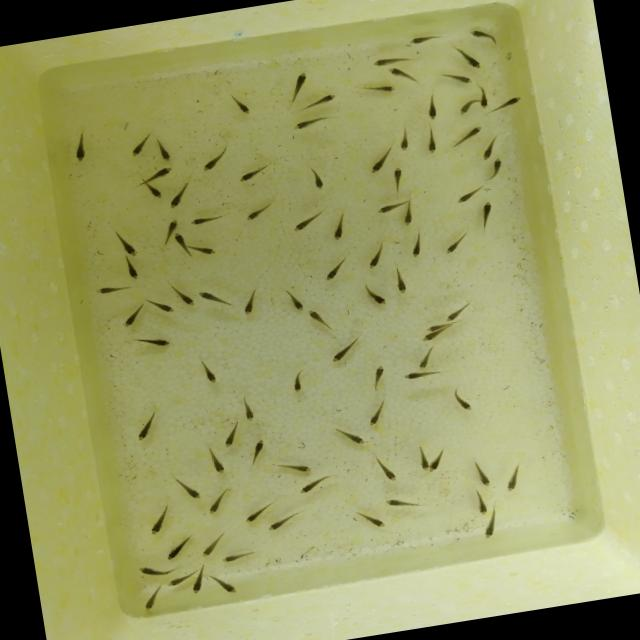fingerling: (449, 124, 491, 150), (132, 560, 174, 584), (288, 210, 326, 236), (326, 338, 360, 366), (166, 182, 197, 212), (320, 256, 352, 285), (364, 147, 396, 175), (176, 472, 204, 503), (198, 491, 230, 518), (203, 145, 236, 171), (195, 284, 228, 310), (298, 91, 338, 112), (166, 534, 198, 560), (114, 230, 140, 262), (336, 426, 369, 451), (200, 530, 232, 555), (372, 50, 416, 68), (134, 414, 160, 444), (286, 70, 312, 100), (365, 400, 391, 430), (146, 296, 178, 320), (172, 281, 198, 310), (219, 422, 244, 452), (385, 62, 416, 86), (502, 464, 525, 496), (363, 282, 389, 310), (138, 331, 174, 351), (373, 198, 413, 216), (480, 510, 502, 542), (118, 304, 146, 329), (464, 26, 498, 46), (238, 164, 272, 184), (441, 235, 470, 258), (361, 82, 398, 100), (291, 114, 328, 132), (378, 458, 400, 488), (461, 49, 486, 75), (146, 511, 170, 538), (363, 244, 387, 271), (142, 164, 178, 182), (157, 213, 185, 236), (248, 436, 271, 464), (192, 242, 224, 262), (216, 549, 256, 565), (127, 137, 153, 161), (140, 591, 164, 617), (445, 302, 473, 324), (474, 462, 495, 491), (402, 368, 440, 384), (328, 216, 348, 246), (413, 347, 437, 372), (478, 138, 502, 163), (296, 476, 326, 496), (304, 304, 327, 330), (216, 580, 243, 602), (451, 189, 484, 207), (382, 493, 413, 512), (477, 200, 498, 228), (208, 450, 228, 479), (402, 33, 438, 49), (240, 204, 272, 222), (187, 576, 211, 600), (480, 157, 510, 176), (92, 282, 130, 297), (242, 506, 270, 526), (494, 93, 525, 111), (425, 453, 448, 477), (232, 96, 254, 121), (142, 182, 167, 204), (186, 213, 220, 229), (264, 516, 294, 534), (280, 462, 316, 477), (423, 92, 441, 121), (362, 513, 388, 533), (154, 138, 174, 164), (200, 360, 220, 386), (388, 164, 407, 191), (172, 231, 194, 254), (453, 391, 474, 415), (474, 491, 492, 518), (394, 268, 411, 296), (164, 572, 190, 590), (124, 256, 142, 282), (449, 71, 476, 88), (240, 400, 259, 424), (408, 234, 426, 259), (290, 368, 306, 396), (424, 130, 440, 158), (73, 138, 90, 164), (371, 364, 387, 391), (240, 294, 258, 318), (454, 99, 479, 116), (417, 448, 432, 474), (290, 290, 306, 314), (400, 207, 418, 228), (424, 322, 454, 333), (397, 132, 411, 155), (311, 171, 326, 191), (420, 330, 443, 343), (478, 90, 492, 109)
